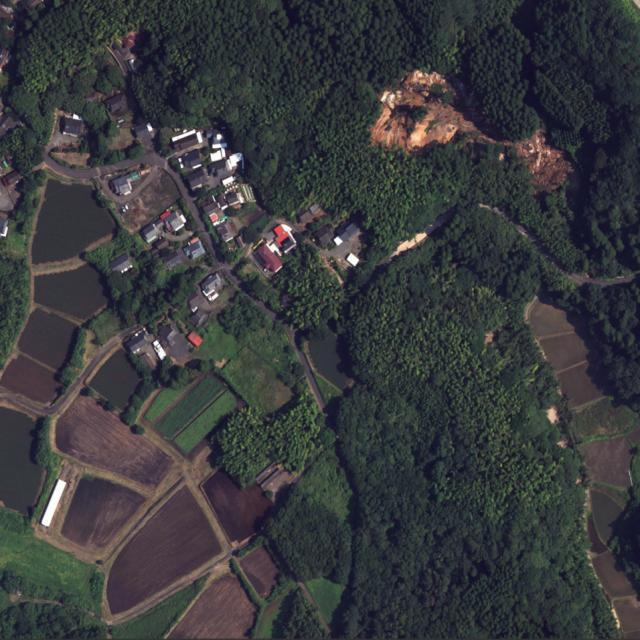landslide: (372, 70, 491, 151), (513, 129, 572, 192)
